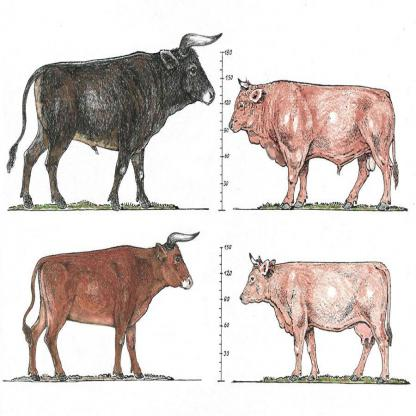cow: (21, 48, 214, 210), (29, 244, 193, 382), (229, 81, 394, 210), (240, 260, 390, 382)
